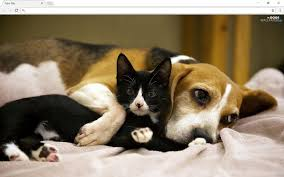cat: (112, 51, 174, 118)
dog: (159, 60, 279, 148)
